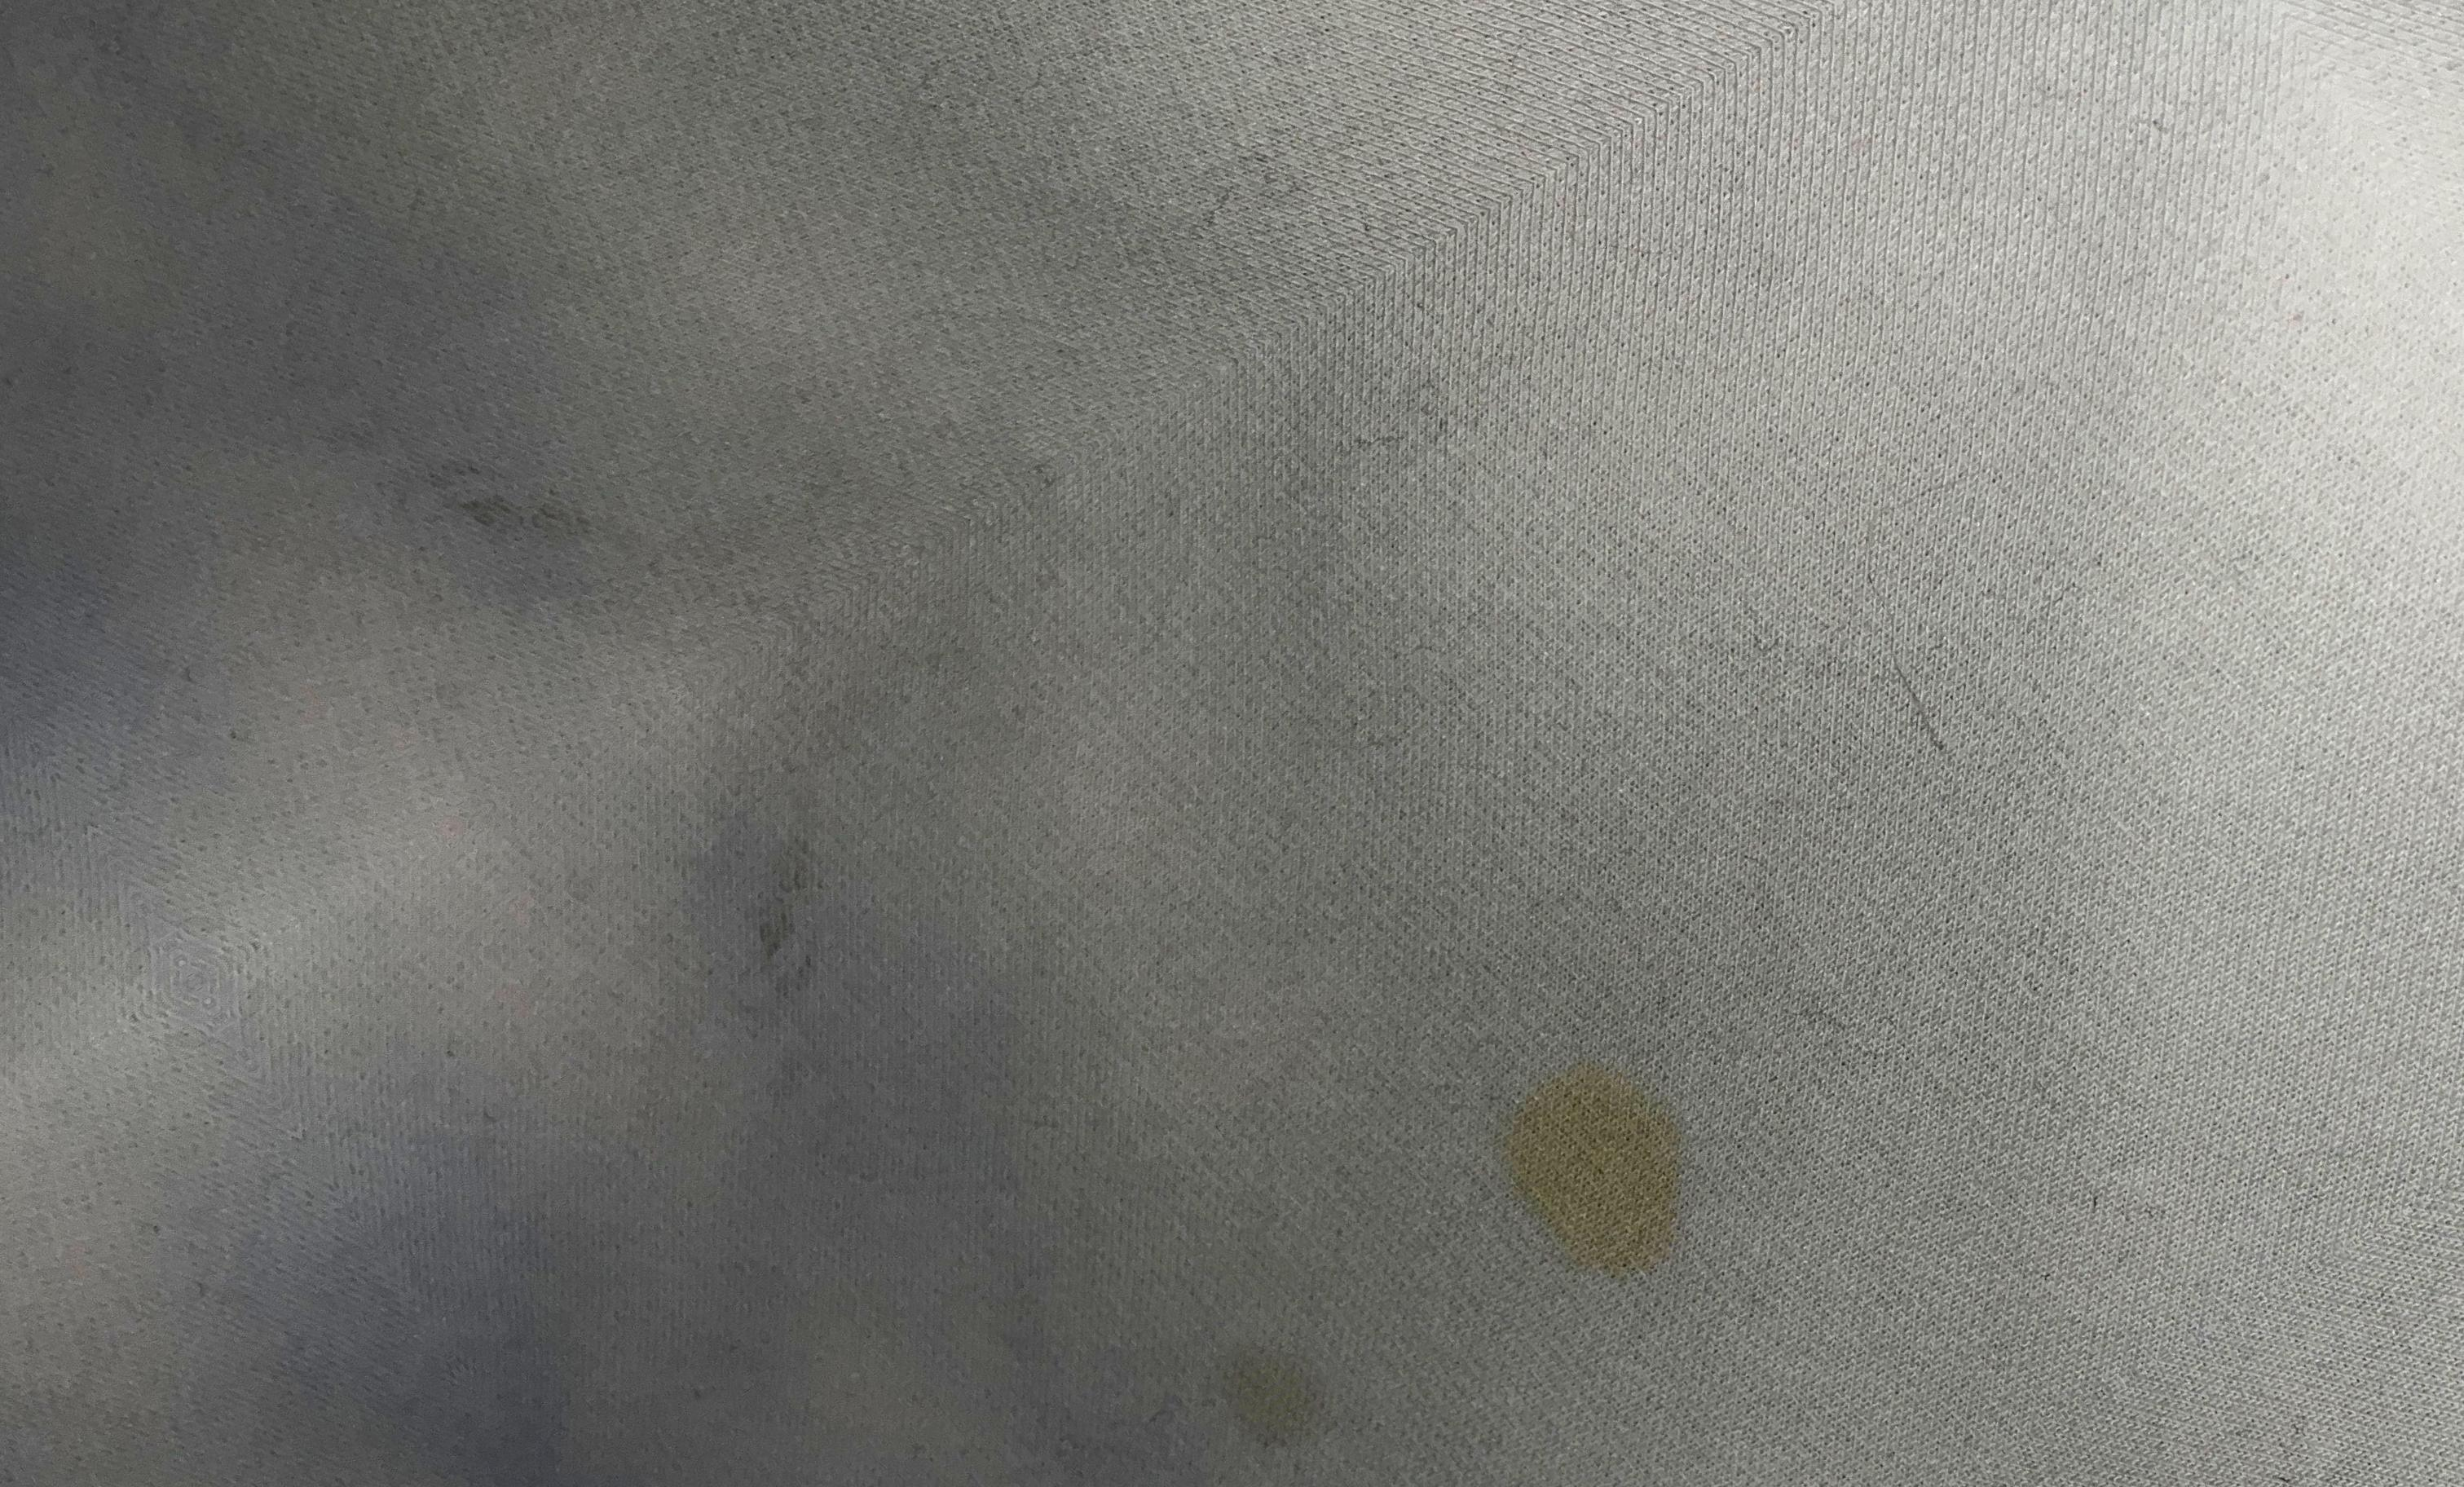stain: (1489, 1051, 1709, 1295), (1206, 1334, 1360, 1464)
